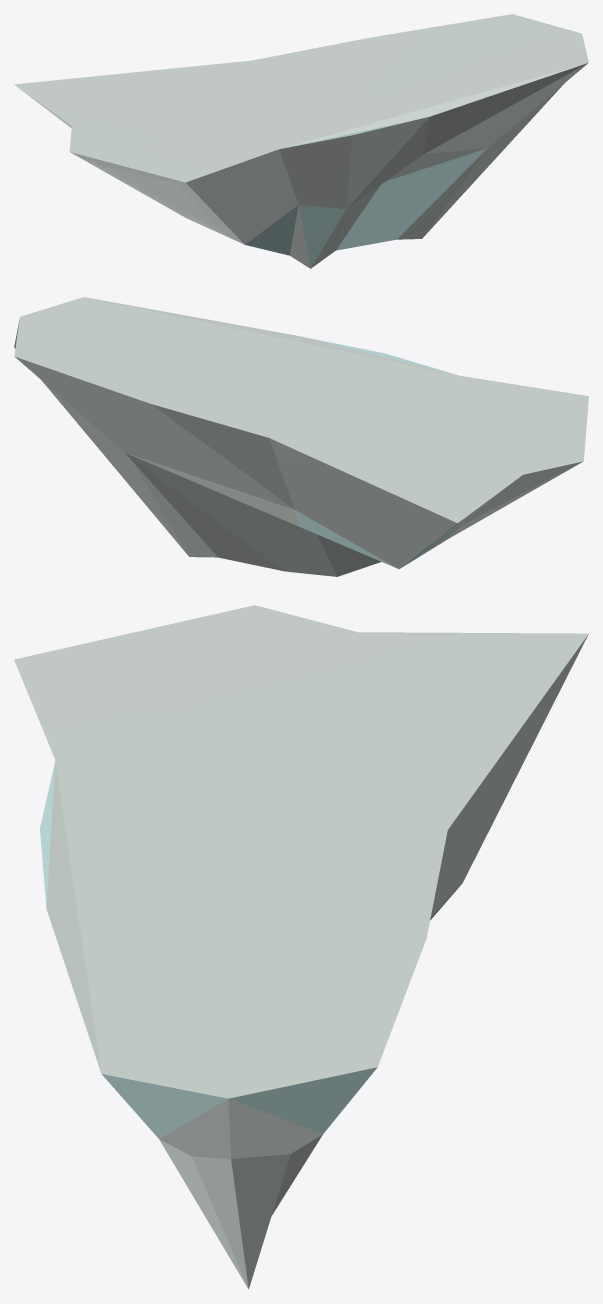
The model's file is SUELO1.fbx.
The picture shows the model from 3 angles, top to bottom: view 1: azimuth 30°, elevation 25°; view 2: azimuth 150°, elevation 25°; view 3: azimuth 270°, elevation 25°; orthographic projection. The views are drawn at different scales.
Visible parts, largest first — view 1: Cubo.045; view 2: Cubo.045; view 3: Cubo.045.
Part boxes in pixels (x1=…): Cubo.045: x1=14, y1=14, x2=588, y2=268; Cubo.045: x1=14, y1=297, x2=588, y2=576; Cubo.045: x1=14, y1=605, x2=588, y2=1289.
Bounding box in the file's own units: 175 × 56.39 × 85.63.
